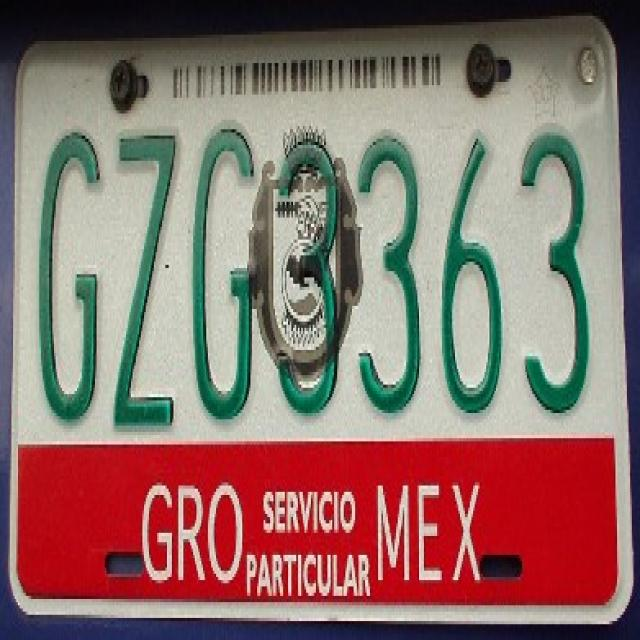placa: (22, 114, 602, 428)
